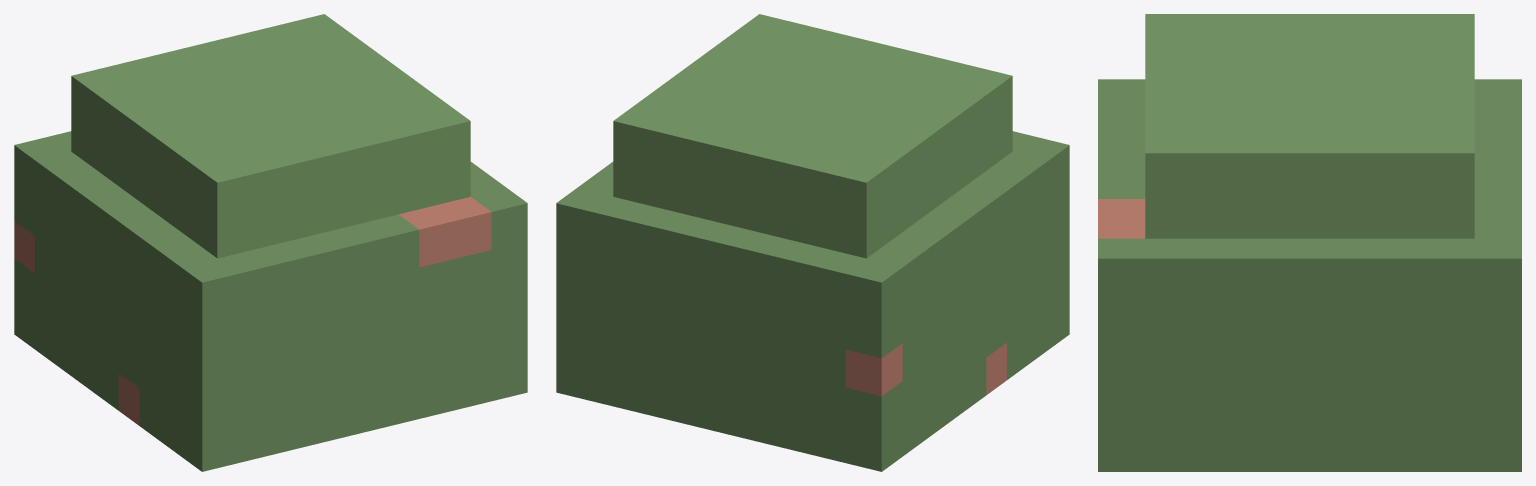
Rendered from serbal_01.glb.
The picture shows the model from 3 angles, left to right: view 1: azimuth 30°, elevation 25°; view 2: azimuth 150°, elevation 25°; view 3: azimuth 270°, elevation 25°; orthographic projection. The views are drawn at different scales.
Visible parts, largest first — view 1: serbal_01; view 2: serbal_01; view 3: serbal_01.
Boxes of the visible parts, bbox=[...] form: serbal_01: bbox=[14, 14, 527, 471]; serbal_01: bbox=[556, 14, 1069, 471]; serbal_01: bbox=[1098, 14, 1521, 471].
Bounding box in the file's own units: 0.9 × 0.7 × 0.9.
